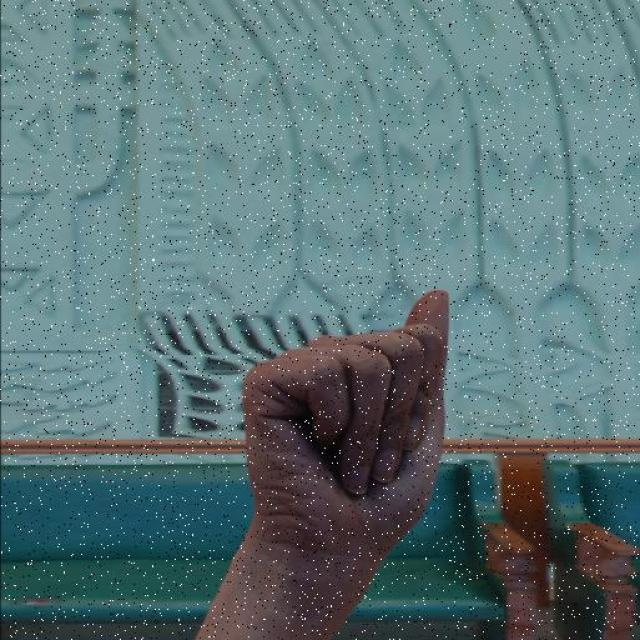A: (235, 287, 457, 548)
